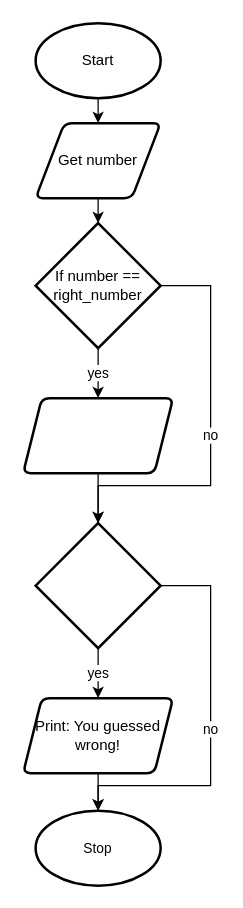
Some shapes in this 243 by 908 pixel diagram are drawn without their labels. Here are the shapes that lost their labels. From the top down, the centre of each, then its label:
At point (97, 435): "Print: You guessed right!".
At point (97, 585): "If number != right_number".
